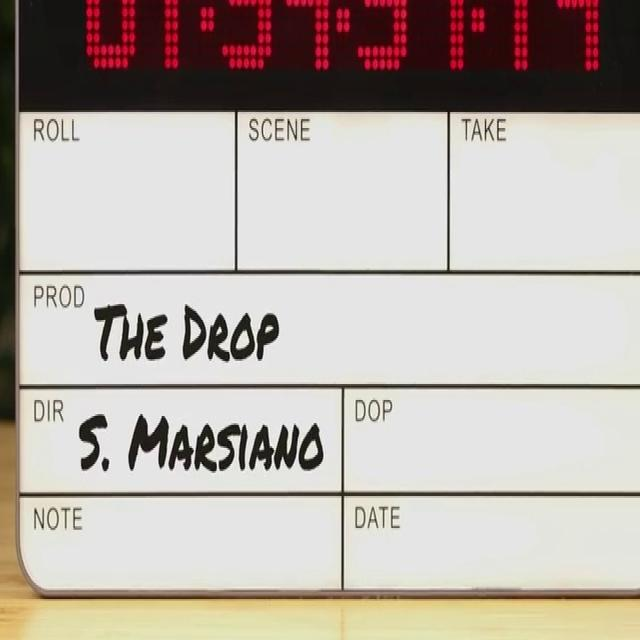Clapperboard: (15, 2, 640, 602)
